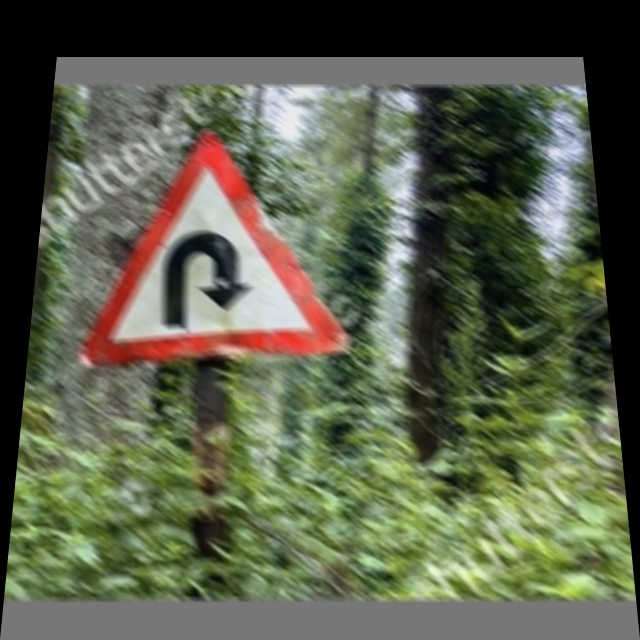Right_Hair_Pin_Bend: (82, 129, 347, 351)
